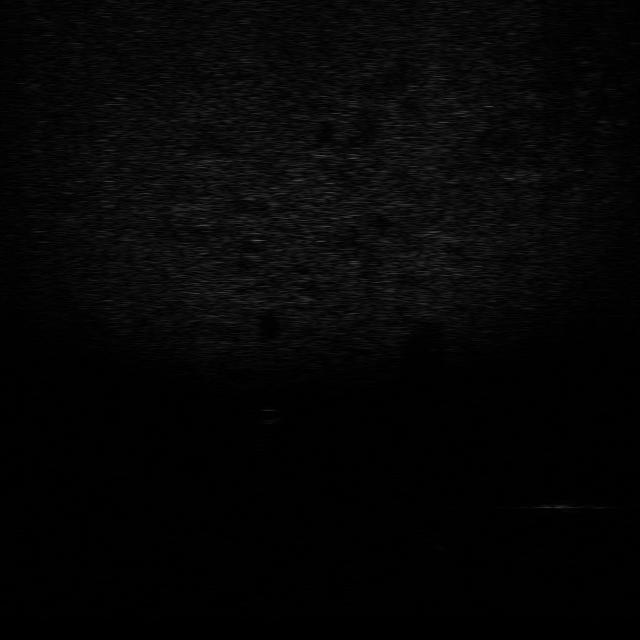ball: (250, 406, 286, 427)
metal bucket: (515, 494, 605, 514)
tyre: (402, 514, 458, 558)
